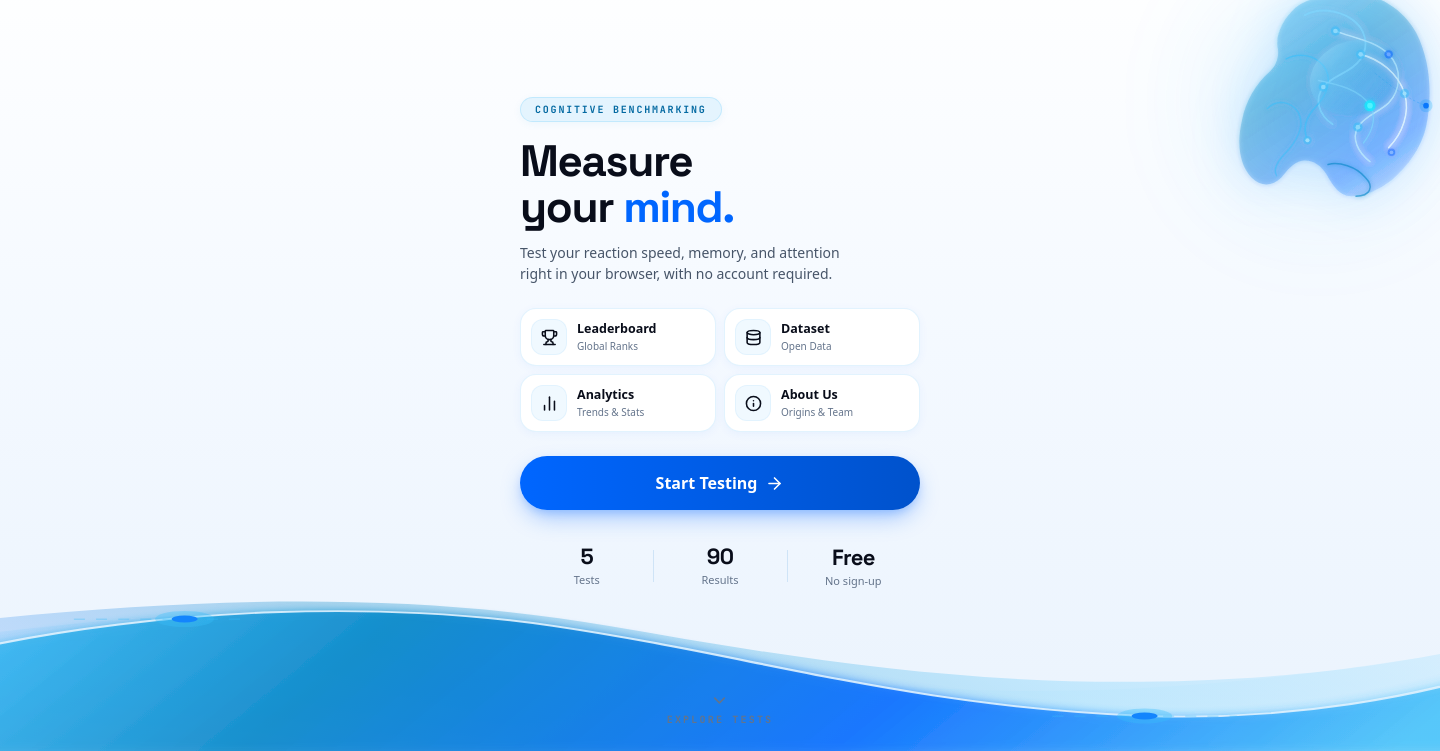
Test: MobileHero › Start Testing navigates to the assessments route
This screenshot has width=1440, height=751.
What coordinates should you click on to do the following:
click the button "Start Testing"
I would click on:
 (720, 483)
Its box is [520, 456, 920, 510].
(page scrolled)
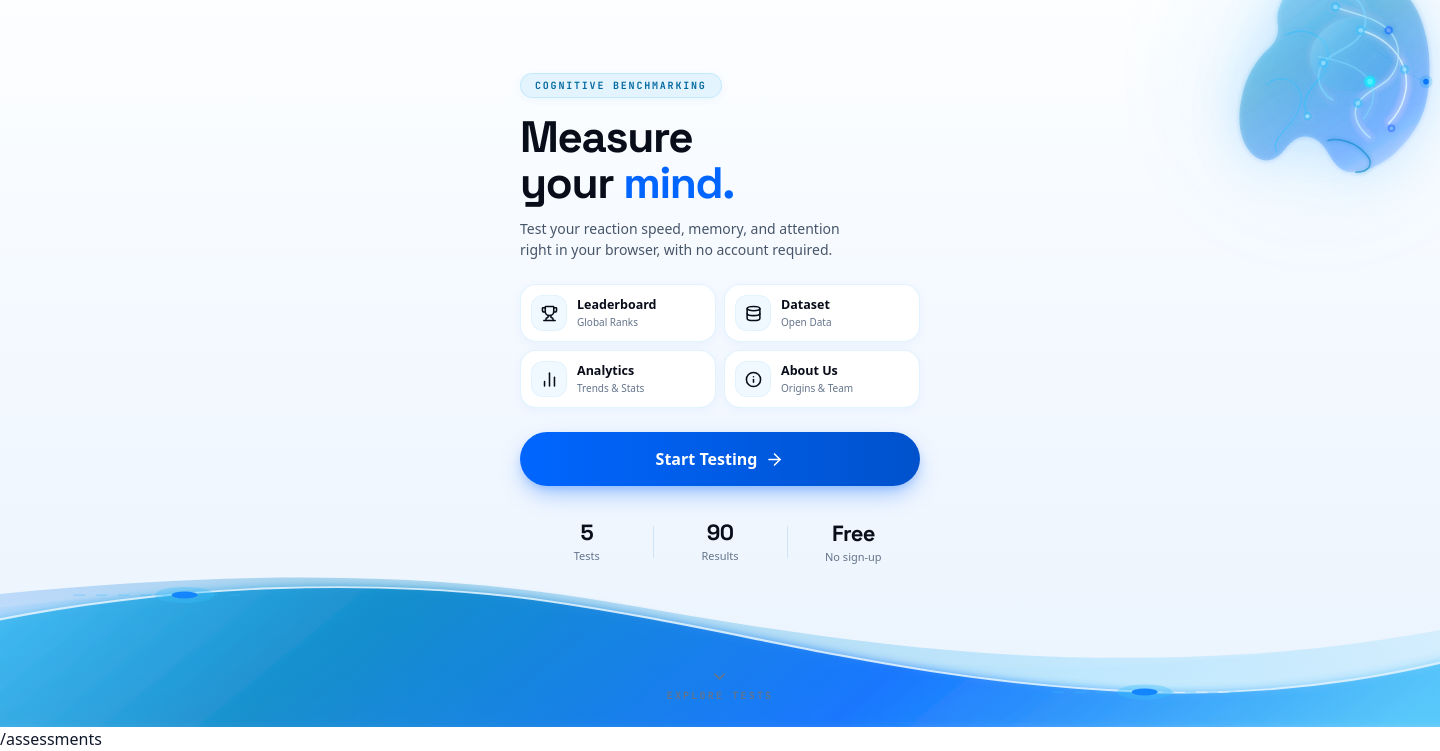
Result: the text with test id "current-path" reads "/assessments" at [0, 728, 102, 750]
